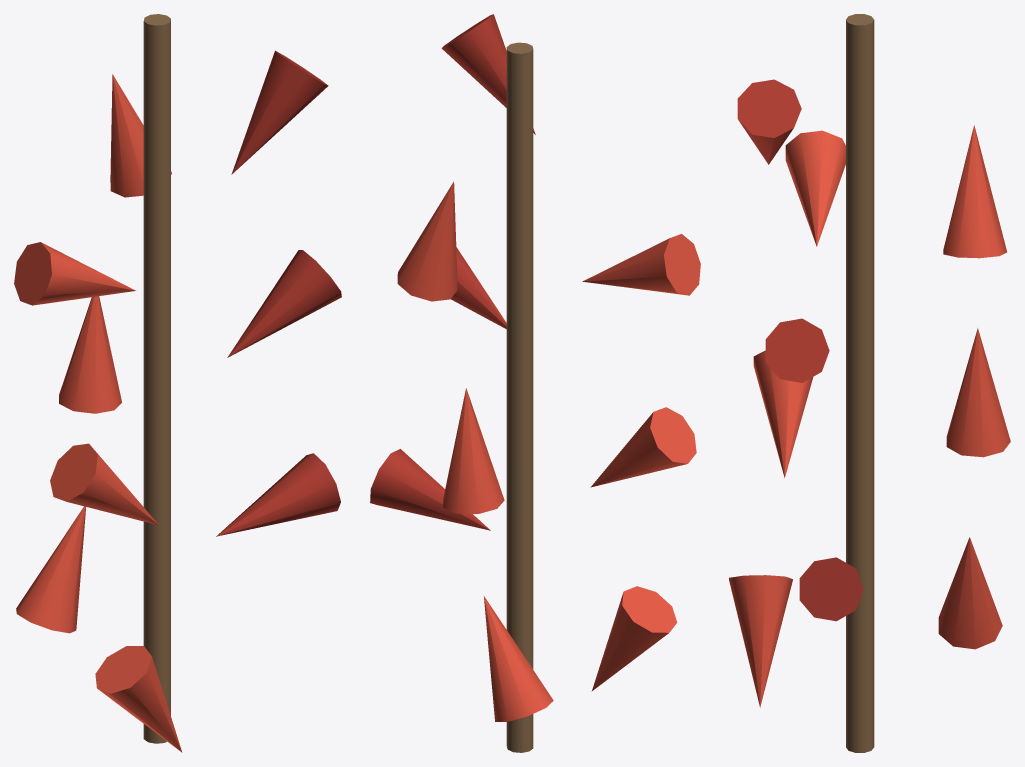
The model's file is wok_prop_chili_string_3.glb.
3 renders of one model, left to right at view 1: azimuth 30°, elevation 25°; view 2: azimuth 150°, elevation 25°; view 3: azimuth 270°, elevation 25°, orthographic. The views are drawn at different scales.
Bounding box in the file's own units: 0.1557 × 0.34 × 0.1193.
